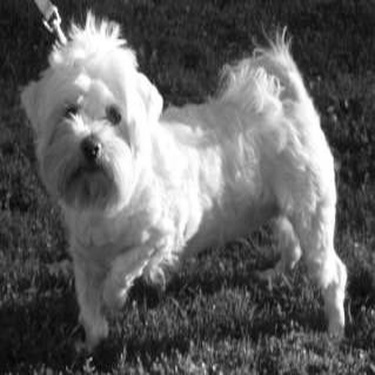dog: (11, 8, 349, 351)
